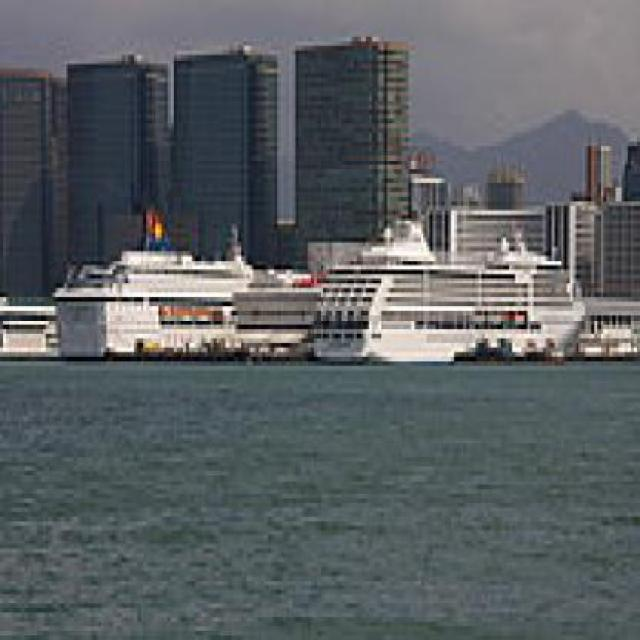cruise: (302, 216, 598, 376), (43, 225, 279, 366)
